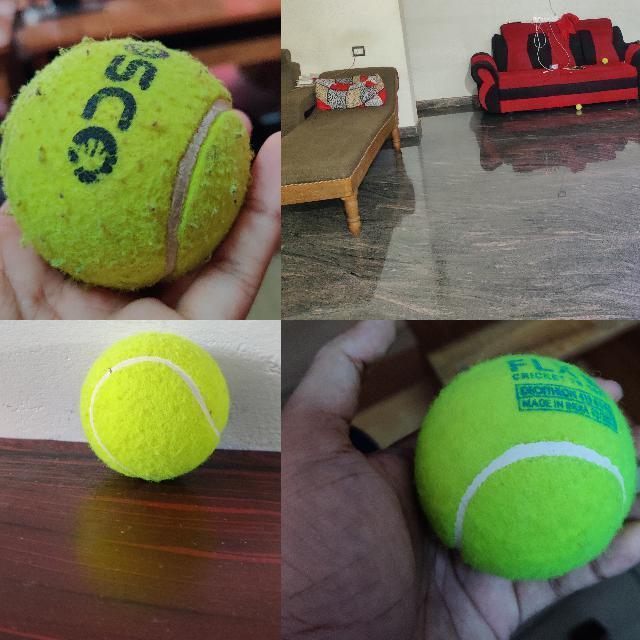tennis-ball: (0, 37, 250, 289), (416, 356, 636, 578), (78, 331, 230, 481), (602, 57, 608, 63), (575, 104, 581, 110)
